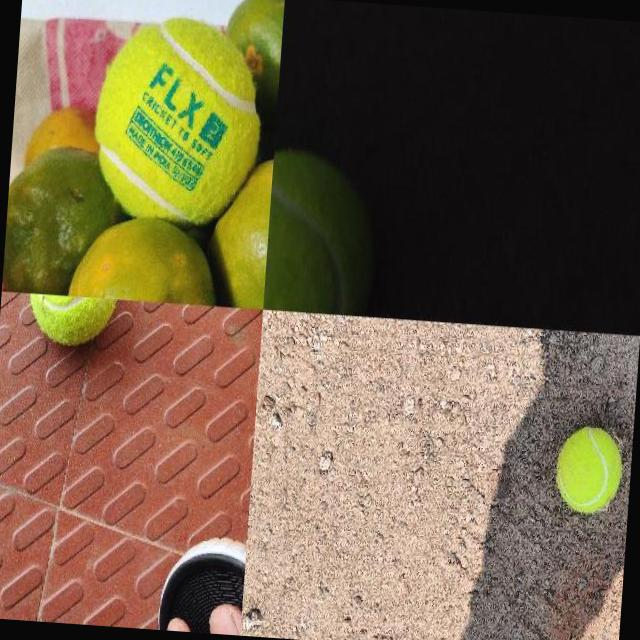Tennis Ball: (88, 11, 233, 220), (262, 148, 382, 316), (554, 424, 624, 514), (26, 293, 116, 348)
